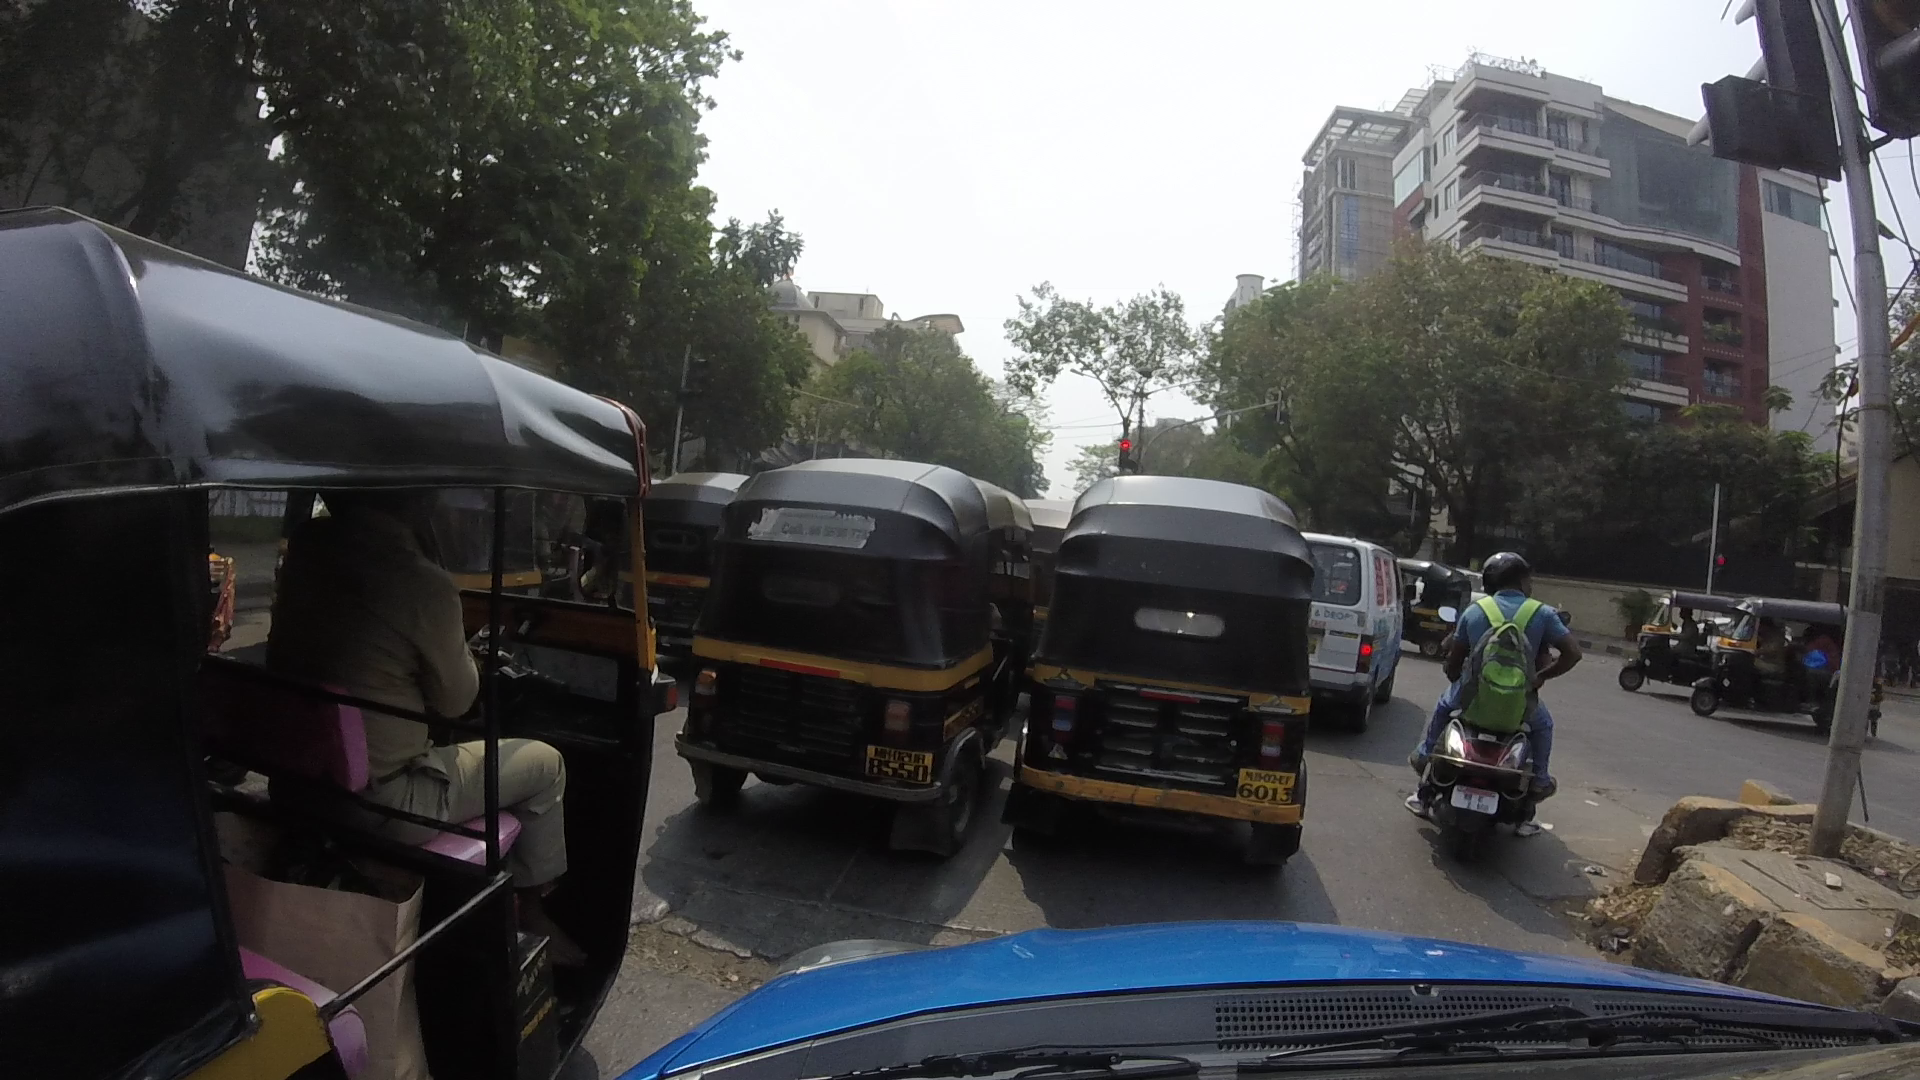bike/scooter: (1416, 549, 1567, 862)
car: (1294, 530, 1408, 719)
rickshaw: (22, 204, 640, 1065), (705, 454, 1019, 839), (1046, 472, 1311, 851), (1702, 592, 1873, 733), (1607, 589, 1702, 683)
